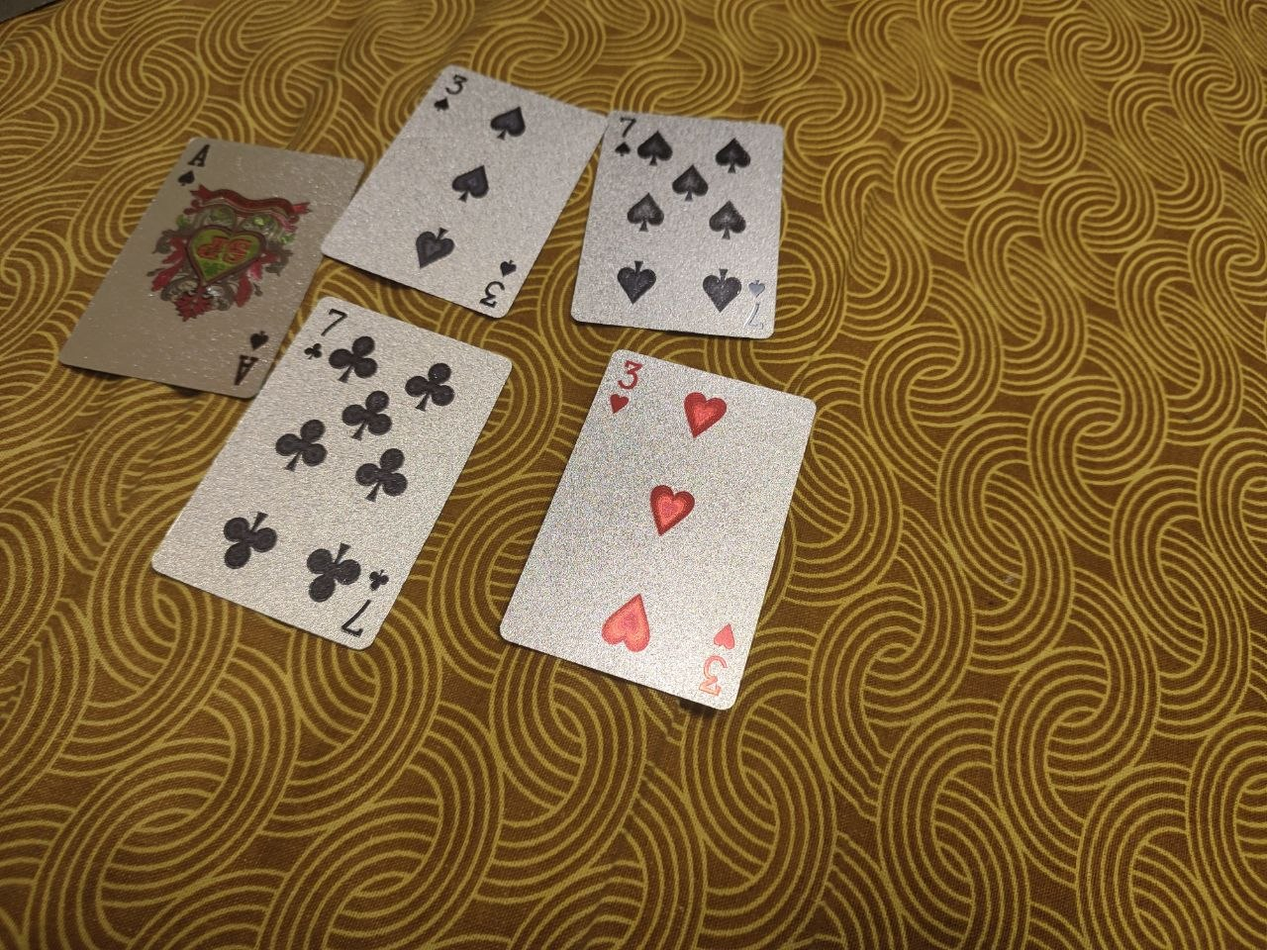3H: (498, 347, 818, 713)
3S: (322, 63, 611, 321)
7C: (150, 294, 514, 651)
7S: (572, 111, 786, 341)
AS: (59, 136, 366, 397)
